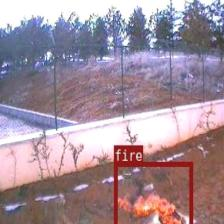fire: (113, 160, 191, 224)
